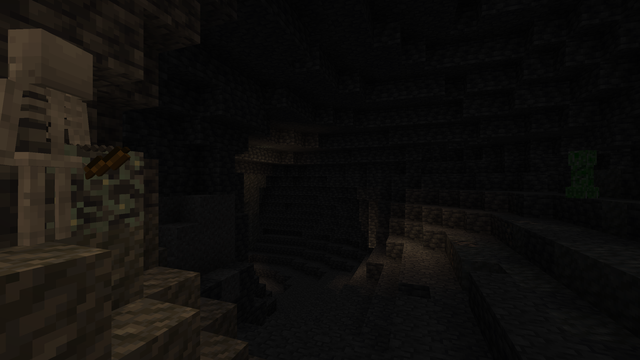creepers: (566, 147, 598, 198)
squelettes: (1, 21, 98, 251)
